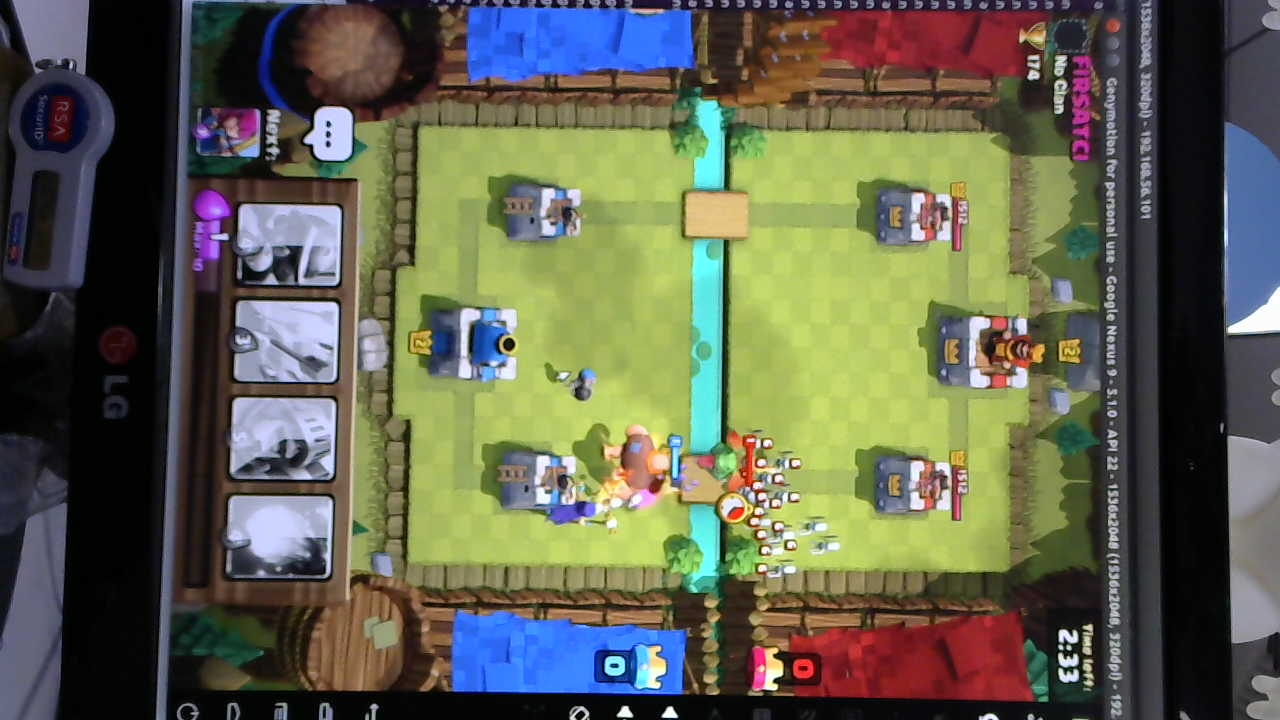arena: (508, 181, 587, 243), (498, 451, 577, 509)
bomb: (569, 364, 606, 404)
dragon: (697, 437, 748, 484)
earena: (867, 452, 956, 516), (875, 186, 957, 250)
eking: (940, 308, 1044, 390)
giant: (607, 425, 671, 503)
king: (427, 300, 521, 385)
skeletonarmy: (743, 435, 838, 578)
witch: (541, 500, 616, 531)
